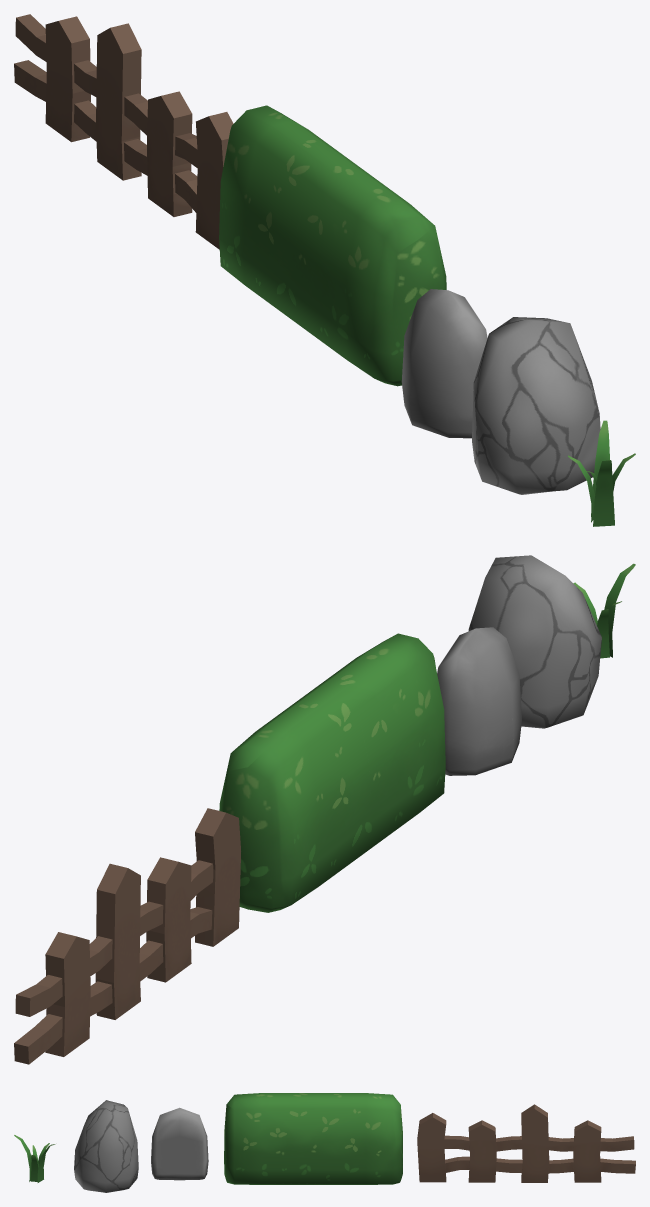
Rendered from GrasslandsTerrain.fbx.
The picture shows the model from 3 angles, top to bottom: view 1: azimuth 30°, elevation 25°; view 2: azimuth 150°, elevation 25°; view 3: azimuth 270°, elevation 25°; orthographic projection. The views are drawn at different scales.
Visible parts, largest first — view 1: Cube, Grassland Fence.001, Cube.002, Cube.001, Plane.001; view 2: Cube, Grassland Fence.001, Cube.002, Cube.001, Plane.001; view 3: Cube, Grassland Fence.001, Cube.002, Cube.001, Plane.001.
Part boxes in pixels (x1=…): Cube: x1=219, y1=105, x2=446, y2=386; Grassland Fence.001: x1=14, y1=14, x2=233, y2=249; Cube.002: x1=472, y1=317, x2=600, y2=494; Cube.001: x1=401, y1=289, x2=487, y2=438; Plane.001: x1=568, y1=420, x2=635, y2=526; Cube: x1=219, y1=633, x2=445, y2=912; Grassland Fence.001: x1=14, y1=808, x2=240, y2=1064; Cube.002: x1=468, y1=555, x2=601, y2=728; Cube.001: x1=437, y1=627, x2=521, y2=775; Plane.001: x1=573, y1=563, x2=635, y2=658; Cube: x1=224, y1=1093, x2=402, y2=1184; Grassland Fence.001: x1=417, y1=1104, x2=635, y2=1182; Cube.002: x1=74, y1=1100, x2=138, y2=1192; Cube.001: x1=151, y1=1107, x2=208, y2=1180; Plane.001: x1=14, y1=1135, x2=55, y2=1182.
Bounding box in the file's own units: 215 × 295 × 1890.
1 material, 1 textured.
